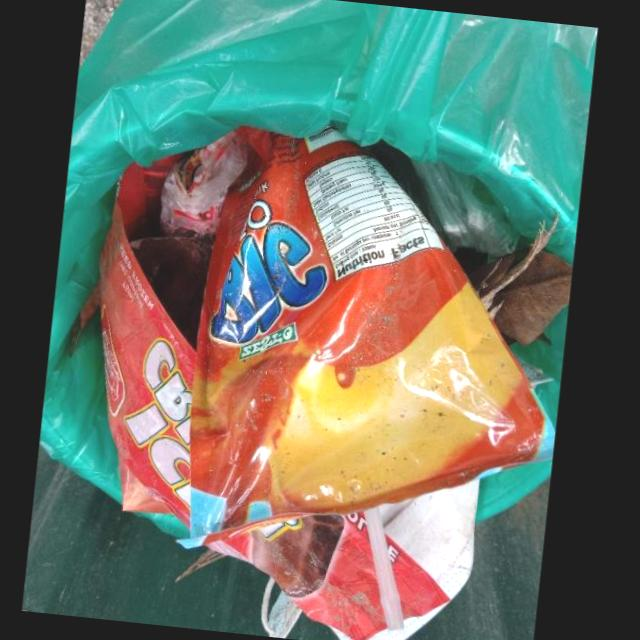bao_bi_thuc_pham: (185, 127, 545, 544), (99, 152, 208, 524), (206, 511, 387, 640), (387, 534, 450, 620)
la_cay: (480, 249, 572, 346)
ong_hut_nhua: (363, 505, 403, 630)
tui_ni_long: (160, 134, 247, 234)
